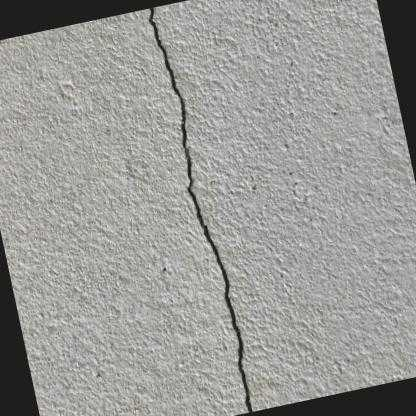crack: (146, 7, 254, 412)
